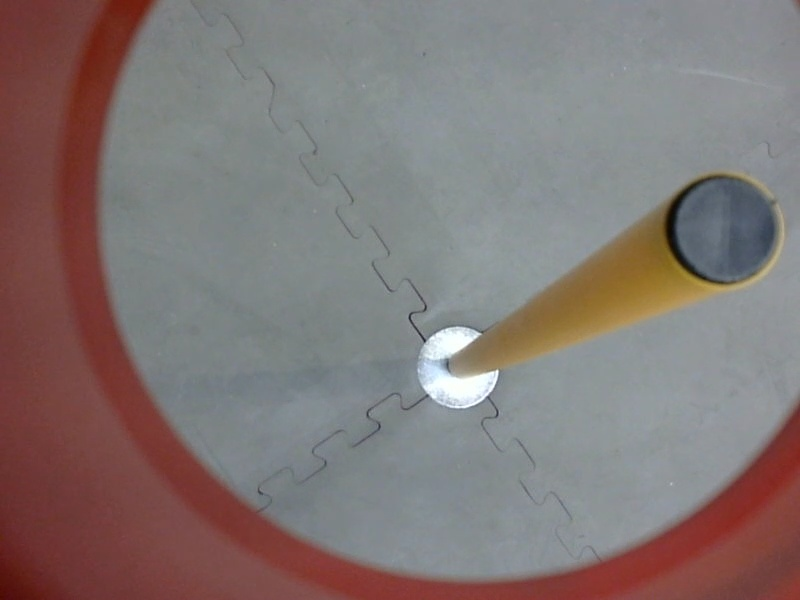tip: (658, 167, 787, 295)
